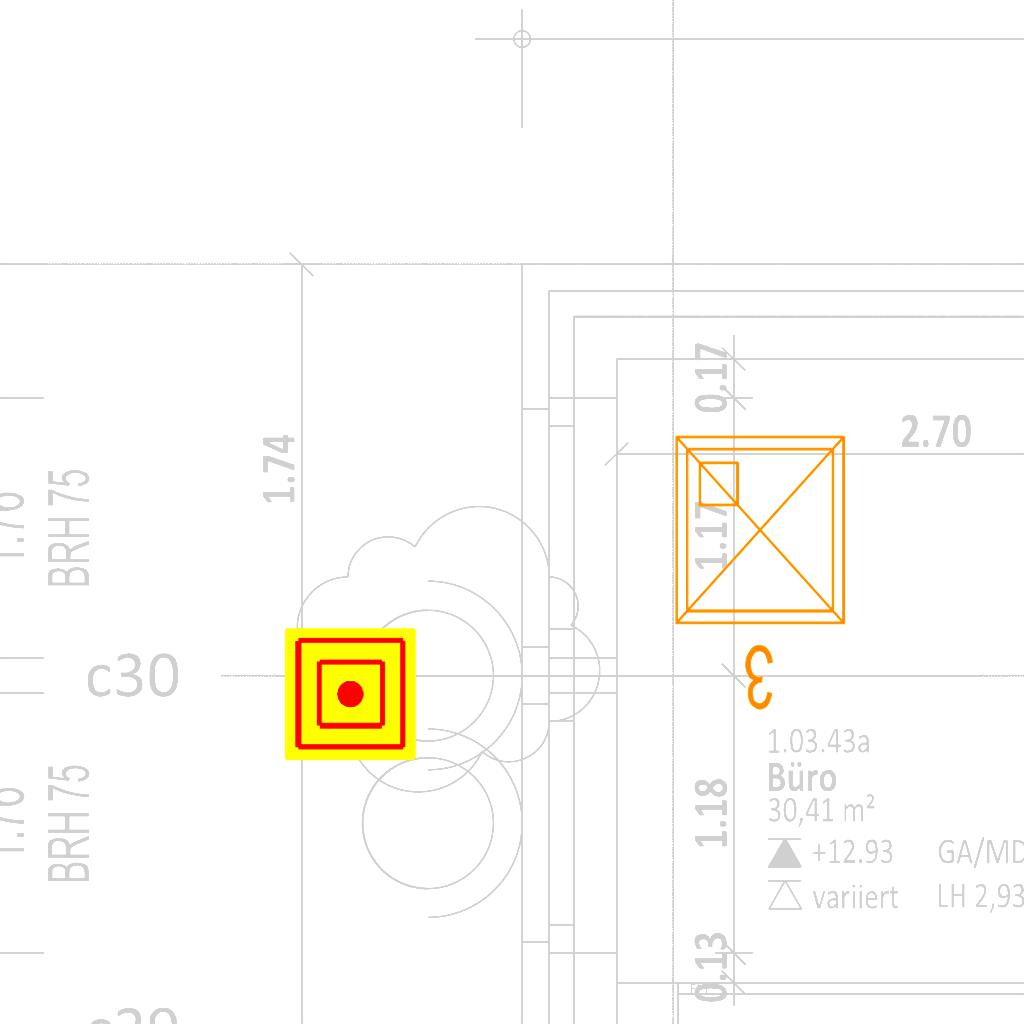Einbaudownlights_LED_Konferenzraeume: (660, 421, 868, 721)
NAM-Nichtautomatischer_Melder: (284, 628, 416, 760)
